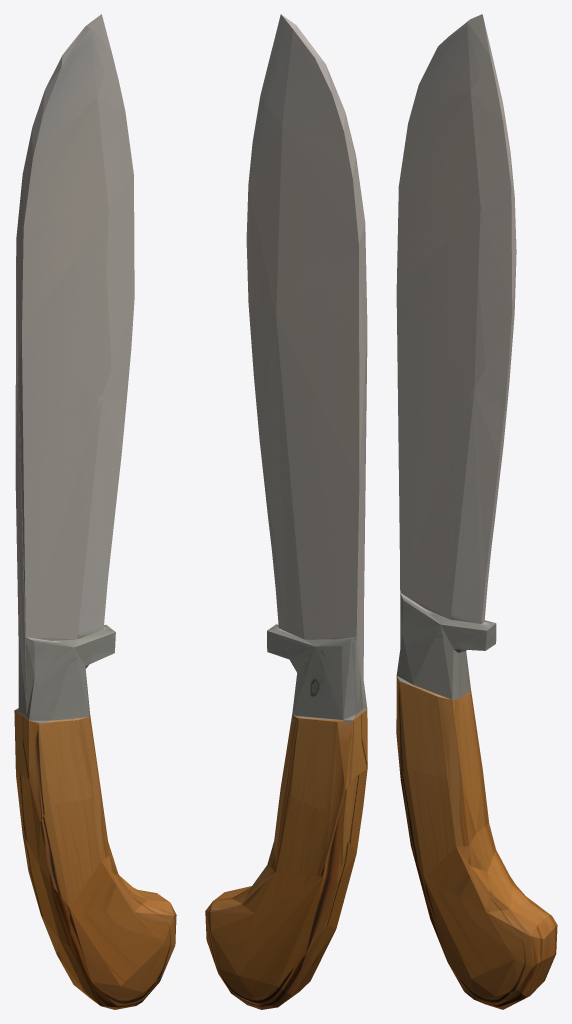
File: Golok.obj
3 renders of one model, left to right at view 1: azimuth 30°, elevation 25°; view 2: azimuth 150°, elevation 25°; view 3: azimuth 330°, elevation 25°, orthographic.
Visible parts, largest first — view 1: texture_pbr_v128; view 2: texture_pbr_v128; view 3: texture_pbr_v128.
Boxes of the visible parts, x1,y1,x2,y2 form: texture_pbr_v128: (14,14,176,1009); texture_pbr_v128: (205,14,367,1009); texture_pbr_v128: (396,14,557,1009).
Bounding box in the file's own units: 0.1917 × 1.19 × 0.0667.
1 material, 1 textured.
